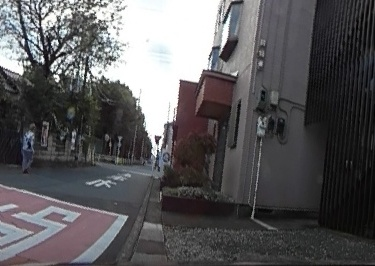person: (22, 122, 37, 172)
